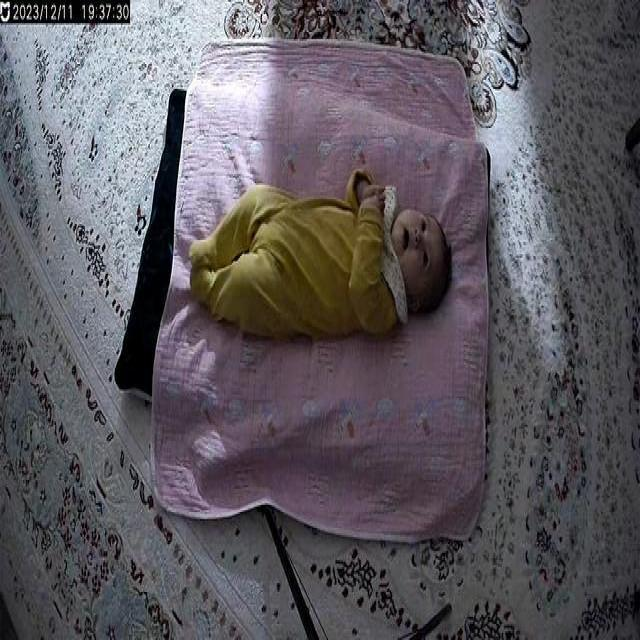baby: (187, 165, 456, 342)
